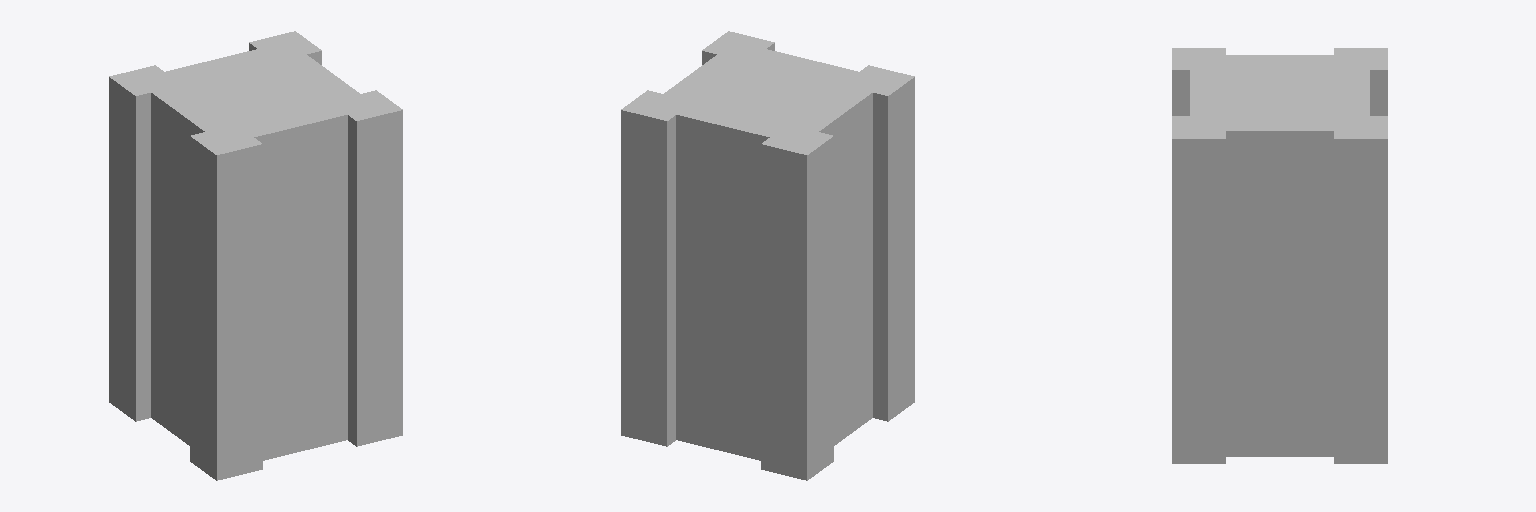
Rendered from 2_big_pillar.obj.
The picture shows the model from 3 angles: view 1: azimuth 30°, elevation 25°; view 2: azimuth 150°, elevation 25°; view 3: azimuth 270°, elevation 25°; orthographic projection.
Parts seen in each view (by area): view 1: object1; view 2: object1; view 3: object1.
Part boxes in pixels (bbox=[...]): object1: bbox=[109, 31, 402, 480]; object1: bbox=[621, 31, 914, 480]; object1: bbox=[1172, 48, 1387, 463].
Bounding box in the file's own units: 0.6 × 1 × 0.6.